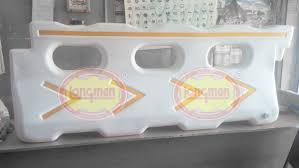barrier: (9, 21, 294, 136)
